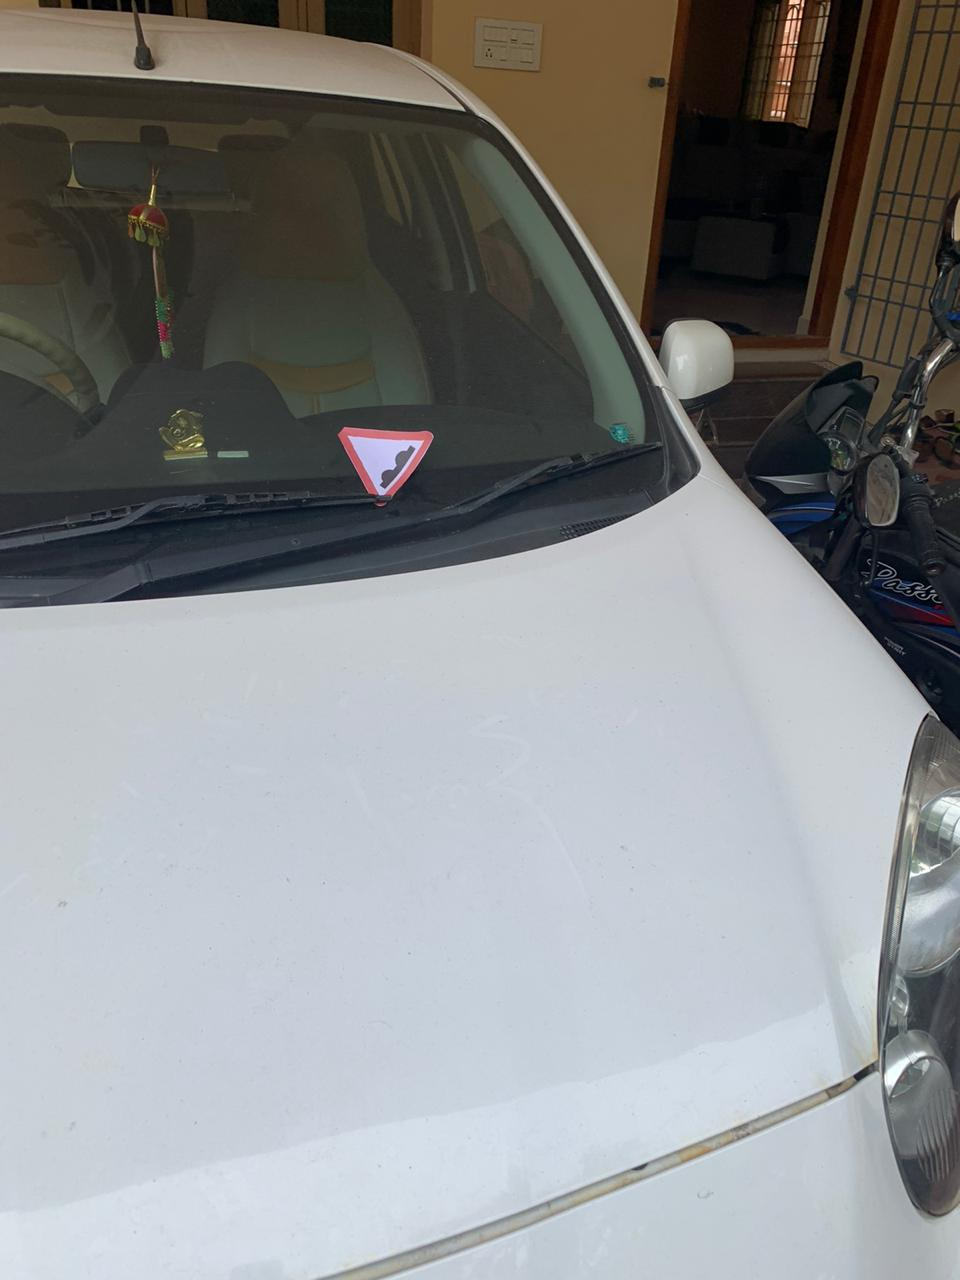UNEVEN ROAD: (340, 400, 487, 522)
